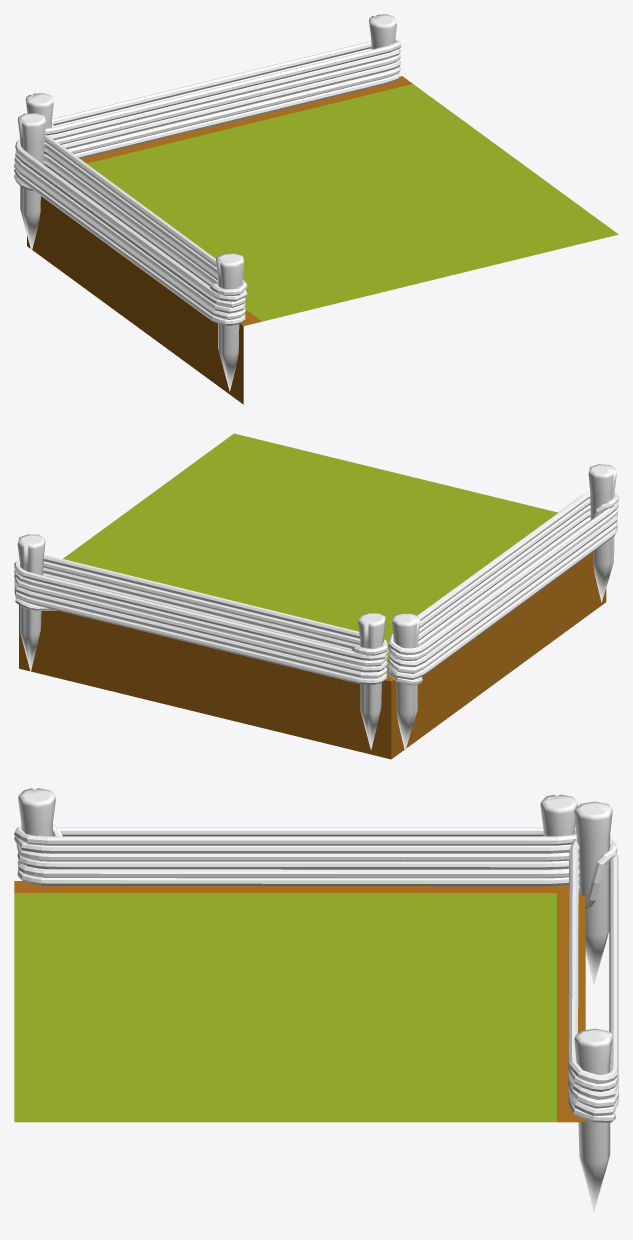
Rendered from SB_Turn02.fbx.
The picture shows the model from 3 angles, top to bottom: view 1: azimuth 30°, elevation 25°; view 2: azimuth 150°, elevation 25°; view 3: azimuth 270°, elevation 25°; orthographic projection. The views are drawn at different scales.
Visible parts, largest first — view 1: Cube.006, Cube.002, Cube.005; view 2: Cube.006, Cube.005, Cube.002; view 3: Cube.006, Cube.002, Cube.005.
Part boxes in pixels (x1,y1,x2,y2): Cube.006: [27, 76, 618, 404]; Cube.002: [14, 113, 247, 391]; Cube.005: [25, 14, 401, 158]; Cube.006: [19, 433, 606, 759]; Cube.005: [14, 534, 388, 750]; Cube.002: [388, 464, 618, 751]; Cube.006: [14, 881, 585, 1122]; Cube.002: [14, 788, 578, 886]; Cube.005: [568, 801, 618, 1213].
Bounding box in the file's own units: 212 × 71.67 × 212.
